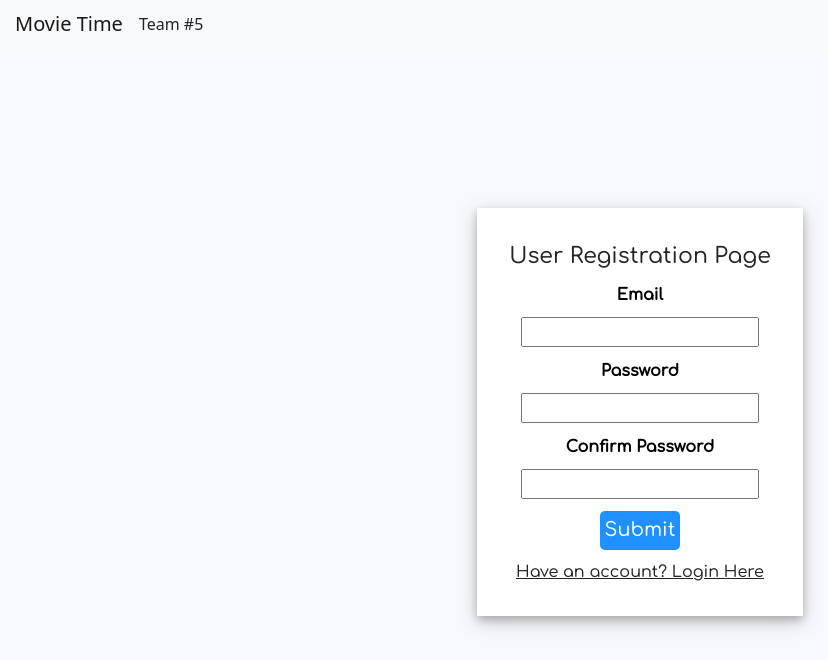
Test: SignUp component › displays an error message when form is submitted without email
The image size is (828, 660).
Type "password1!D" into the password field labelled "Password" at (640, 408), box [521,393,759,423]
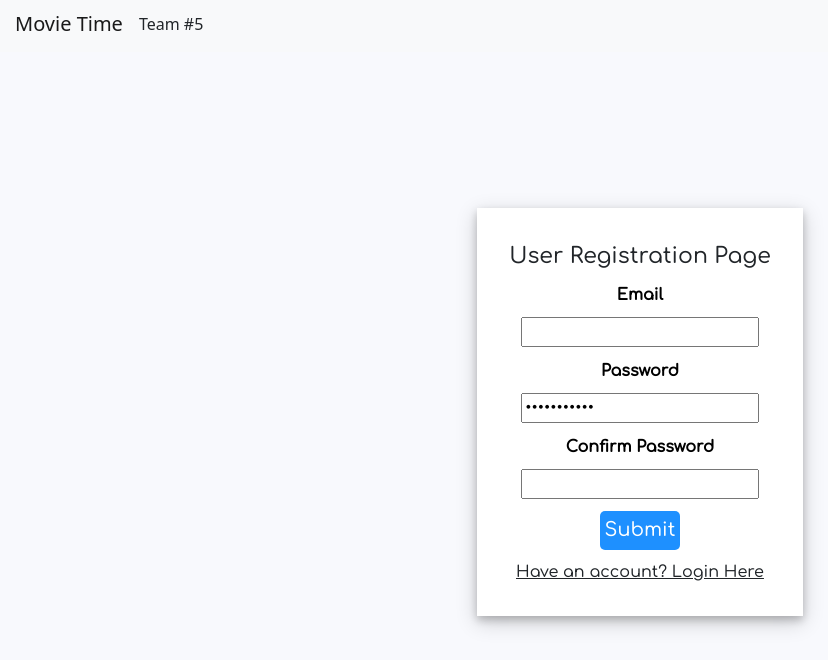
Type "password1!D" into the password field labelled "Confirm Password" at (640, 484), box [521,469,759,499]
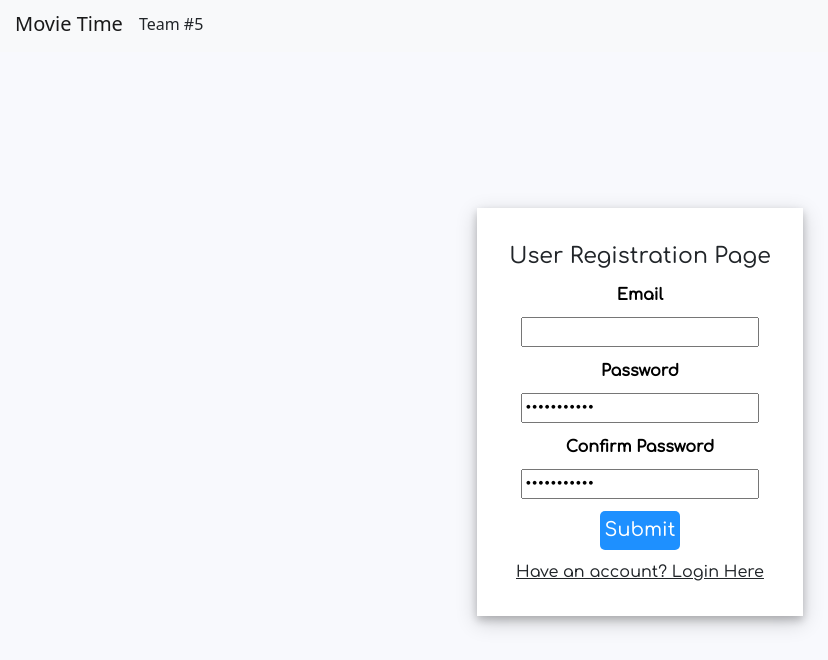
Click the button with test id "submit-button" at (640, 530), box [600,511,680,550]
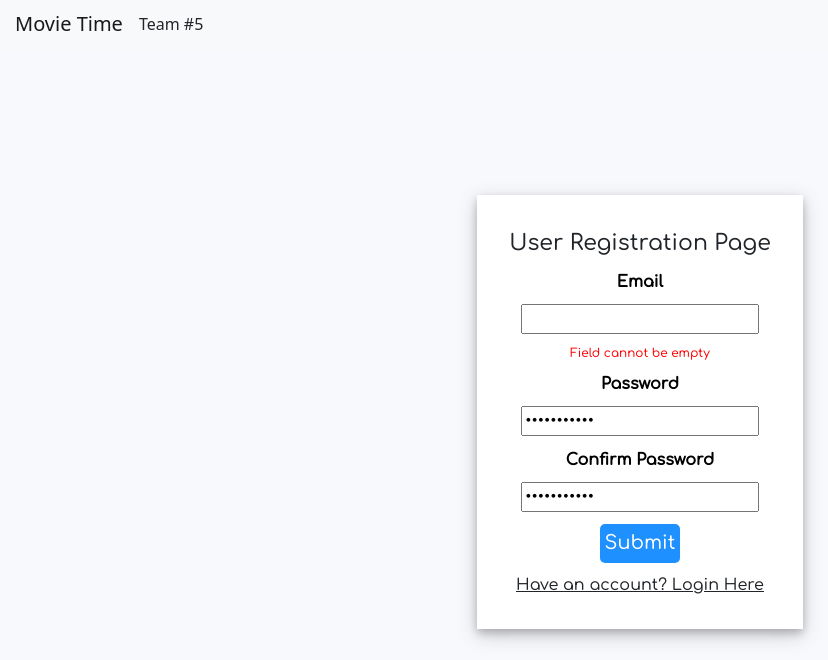
Expected: the text "Field cannot be empty" is shown, [570,346,710,360]
